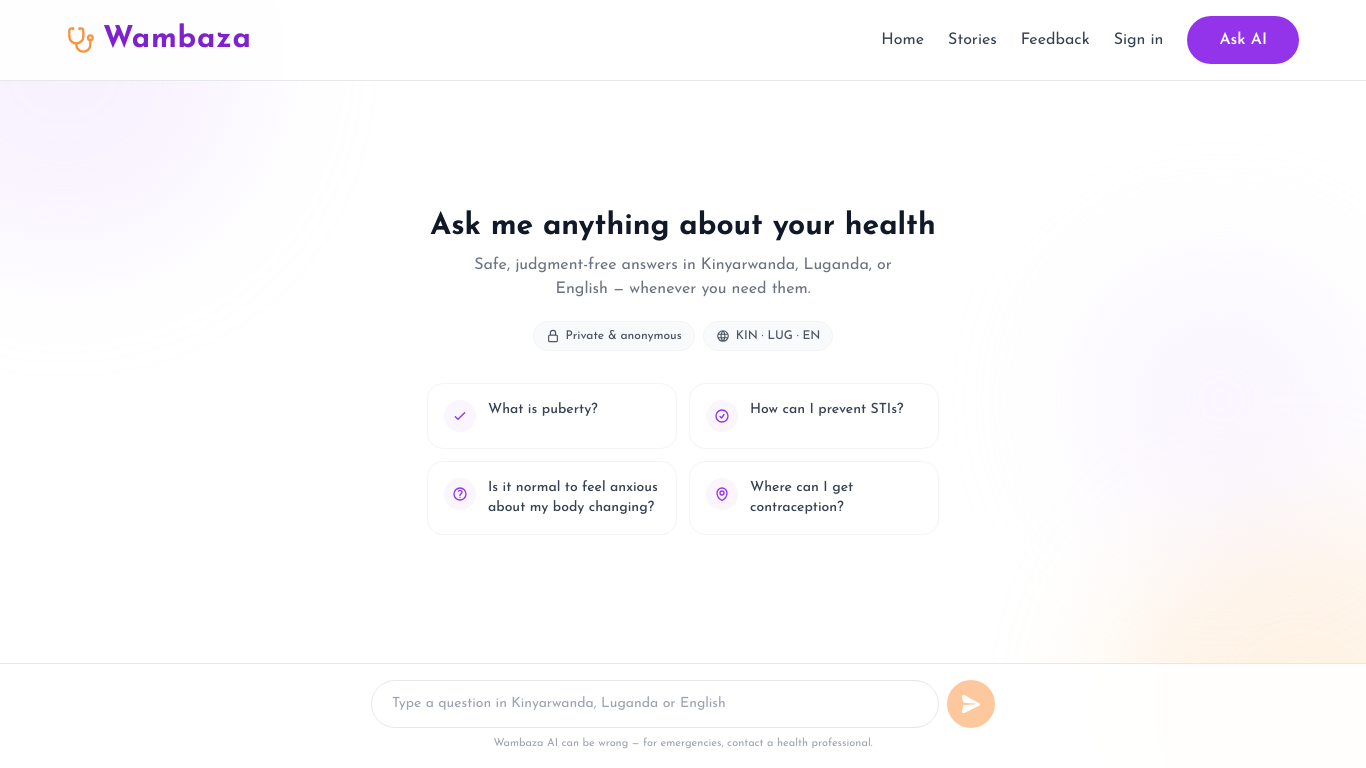
Scenario: Ask AI page › shows a fallback message when the request fails
In the field with placeholder "Type a question in Kinyarwanda, Luganda or English": {"x": 655, "y": 704} [371, 680, 939, 728], type "Hello"
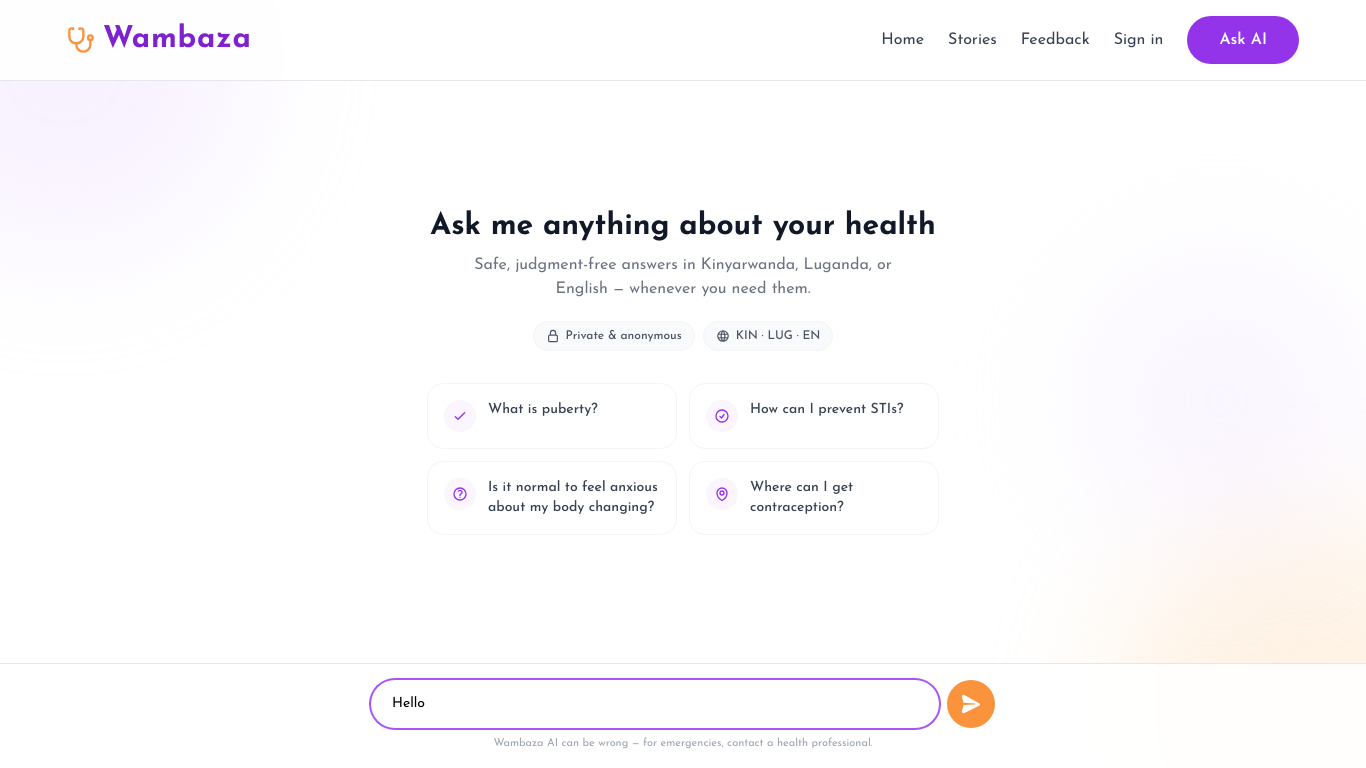
Click the 5th button: {"x": 971, "y": 704} [947, 680, 995, 728]
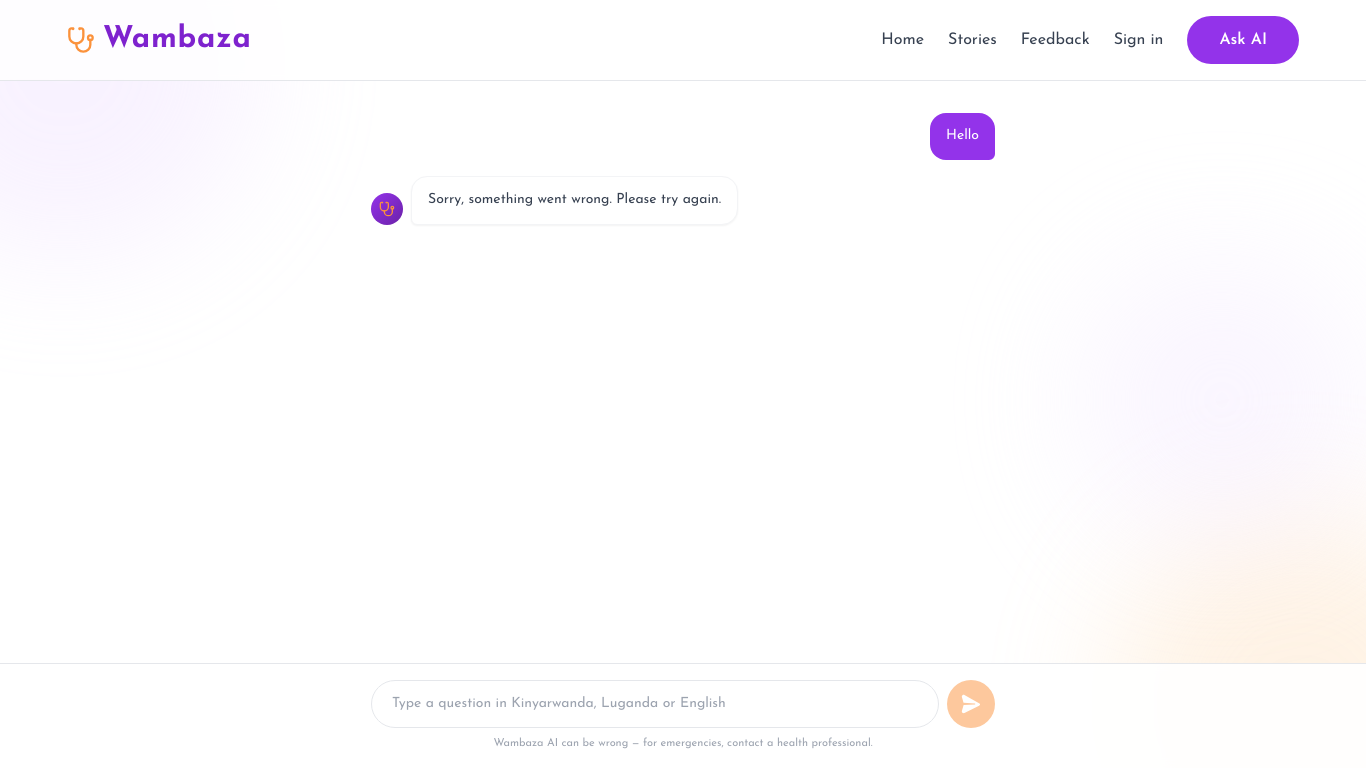
Expected: the text "Sorry, something went wrong. Please try again." is shown, [411, 176, 738, 225]
